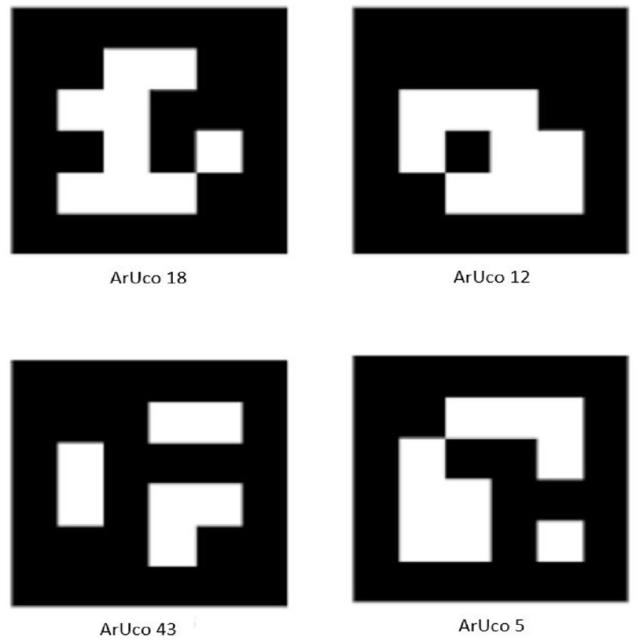aruco: (341, 0, 640, 256), (2, 6, 291, 258), (11, 357, 290, 611), (350, 354, 631, 602)
